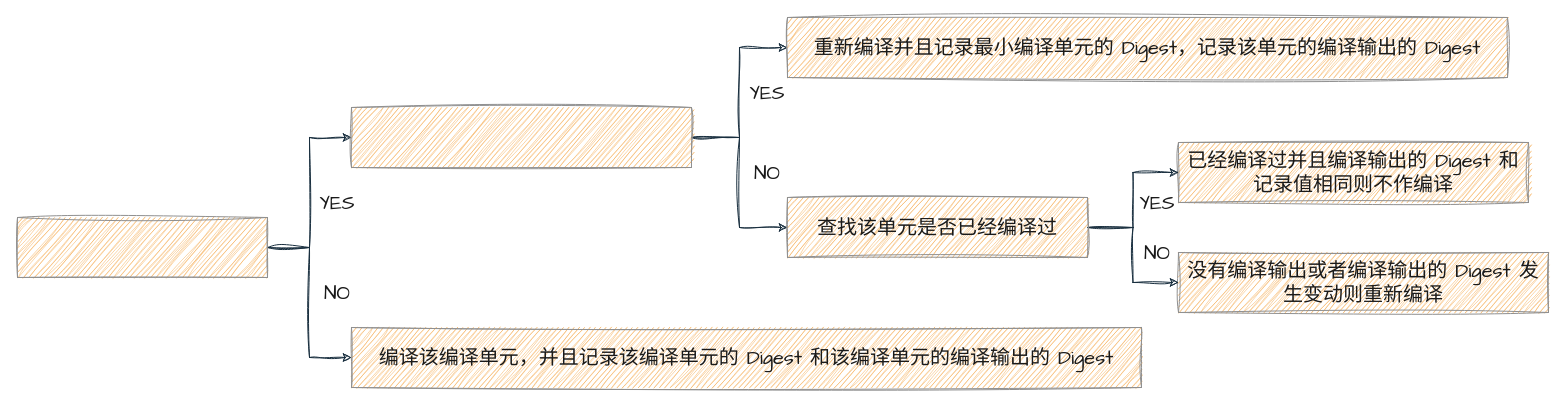
Image size: 1566x405. Some labels were removed from this diagram. Here are the shapes that lost their labels. From the top down, the centre of each, then its label:
At (x=521, y=137): "检查编译单元的 Digest 是否发生变动（ Differ ）".
At (x=142, y=247): "检查数据文件是否有信息".
